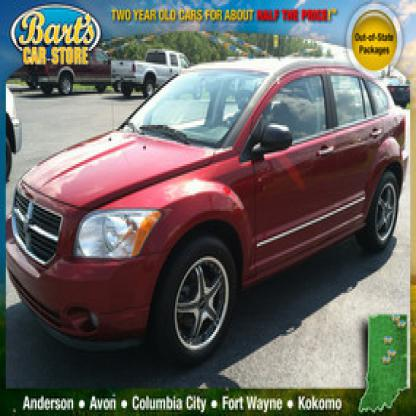Vehicle: (6, 59, 407, 363)
